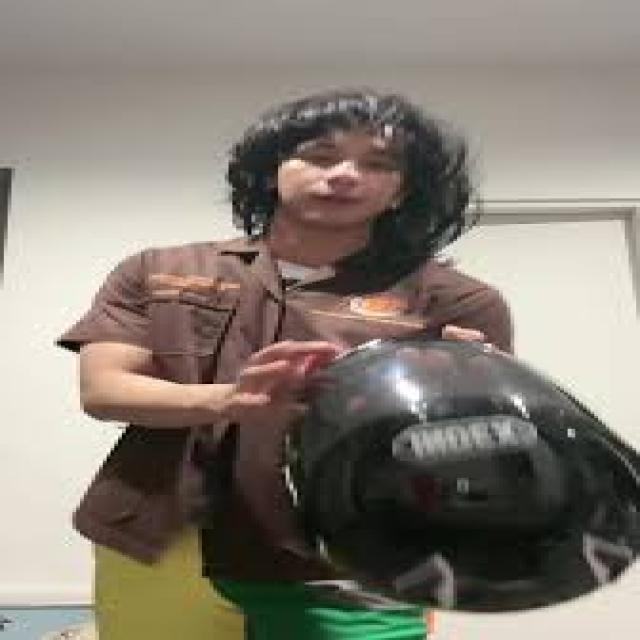helmet: (274, 344, 640, 625)
